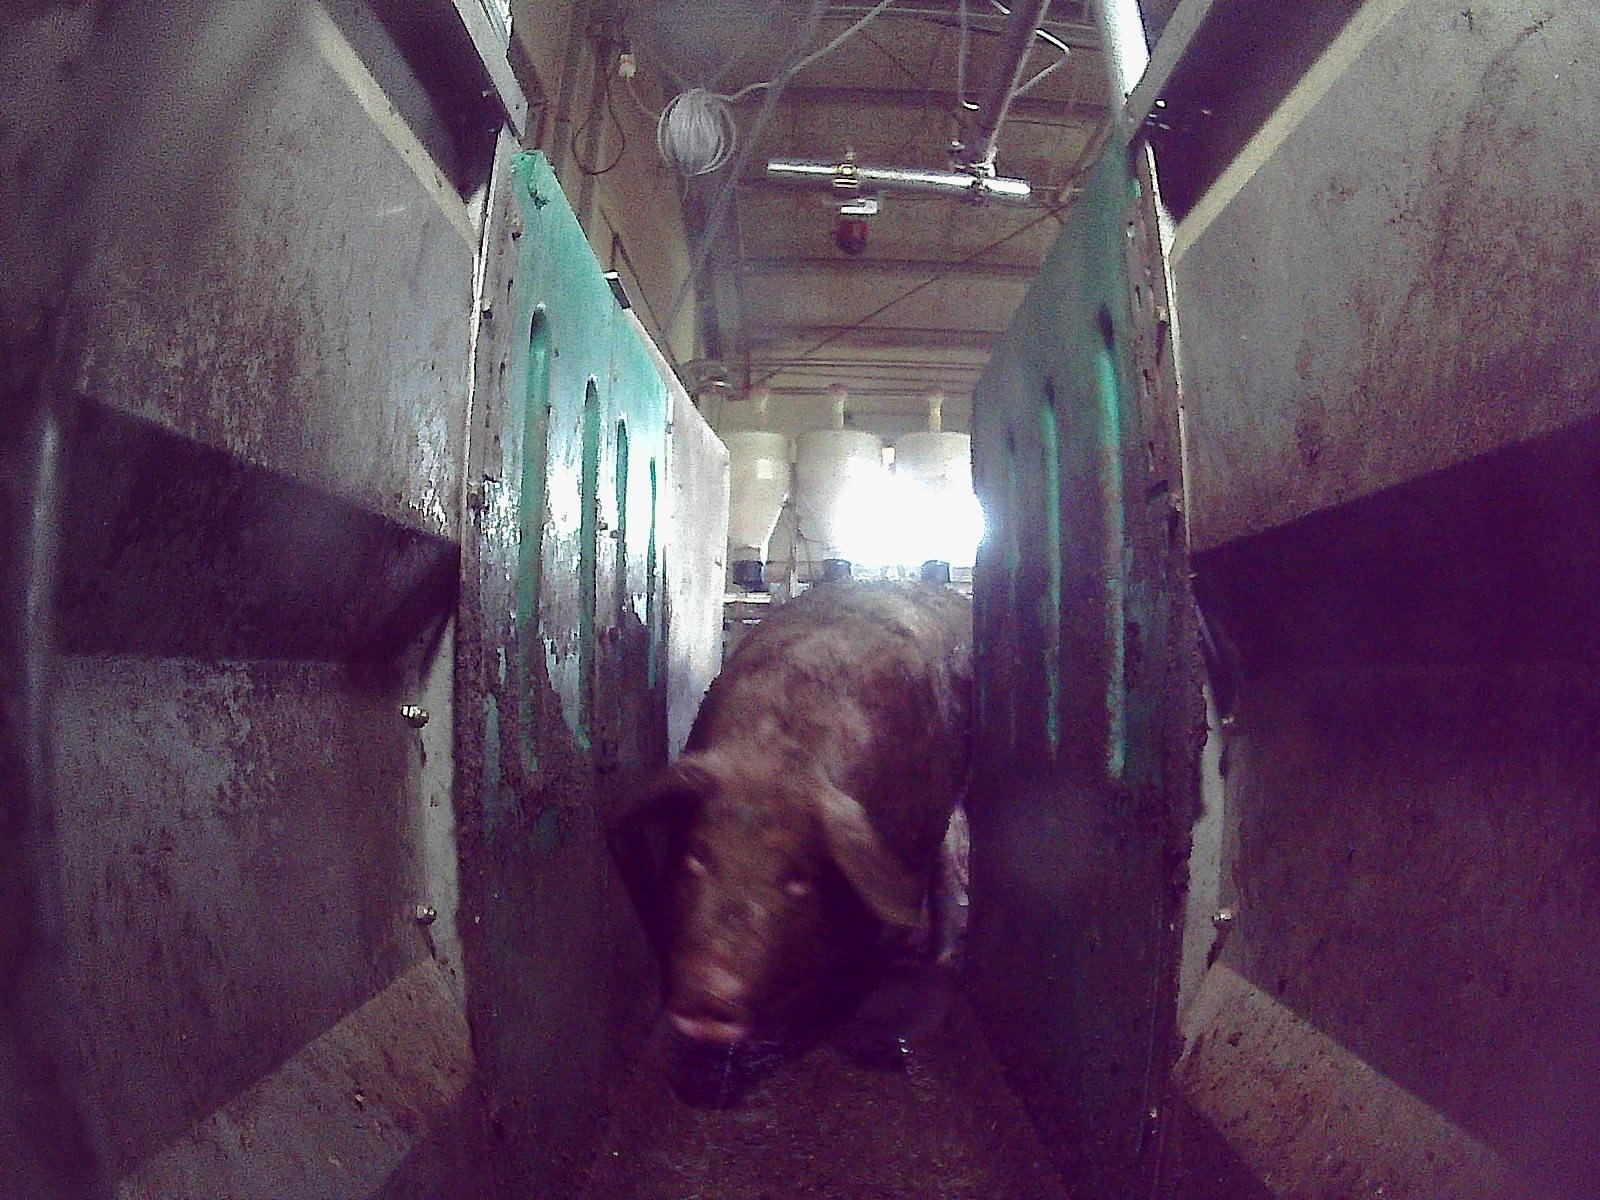Face: (659, 753, 834, 1041)
